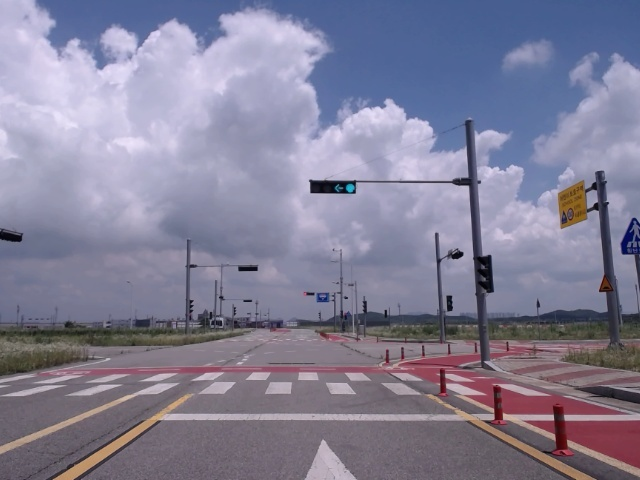all_green_4: (308, 181, 357, 194)
